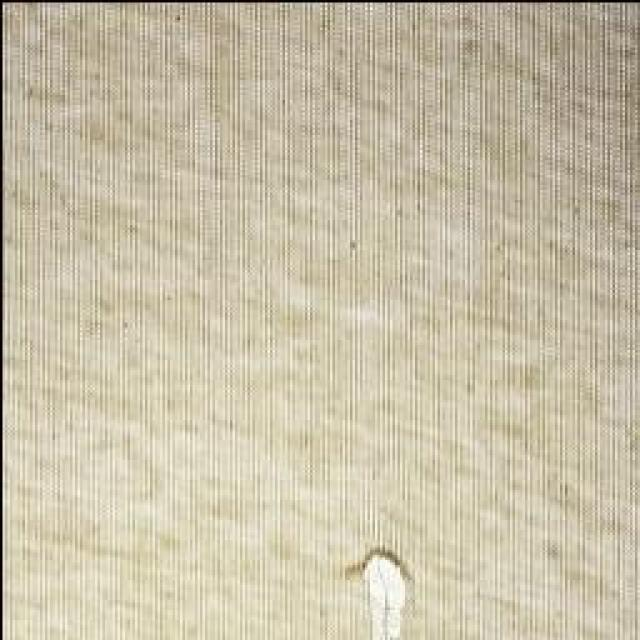other: (280, 525, 472, 640)
